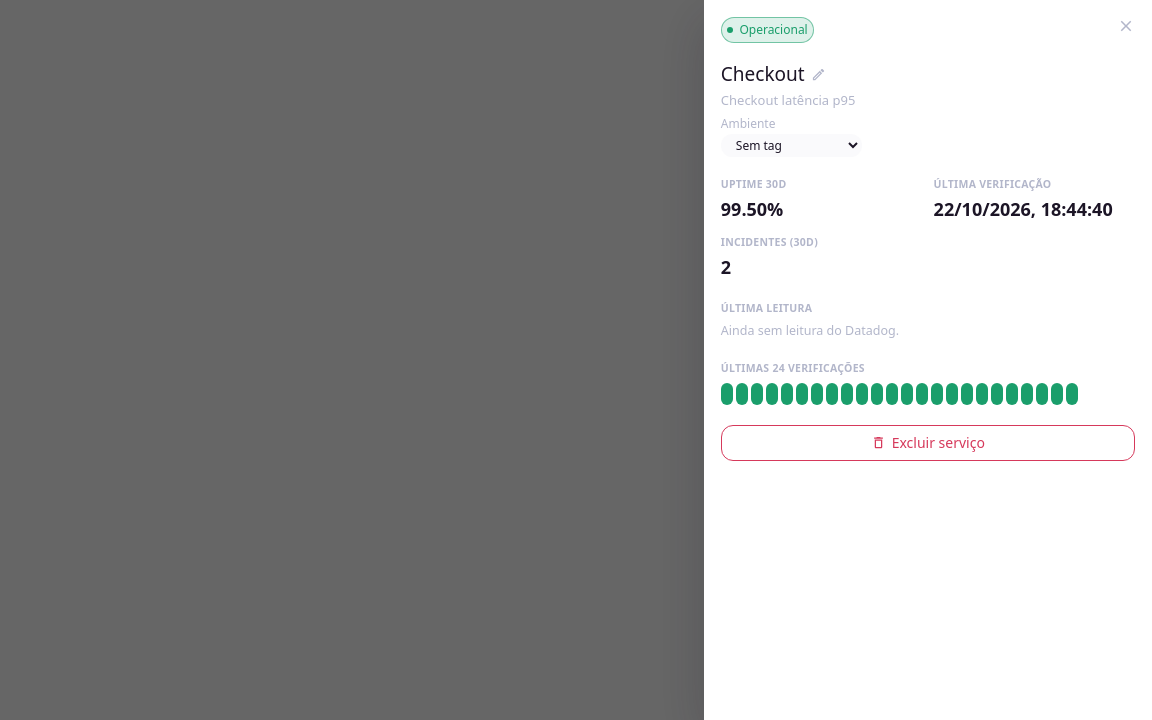
Test: ServiceDetailDrawer › owner can rename the service from the drawer (SVCEDIT-06)
The image size is (1152, 720).
Expected: the heading "Checkout" is shown, [721,60,805,88]
Click the button named "Renomear serviço" at (818, 74), box [811,67,826,82]
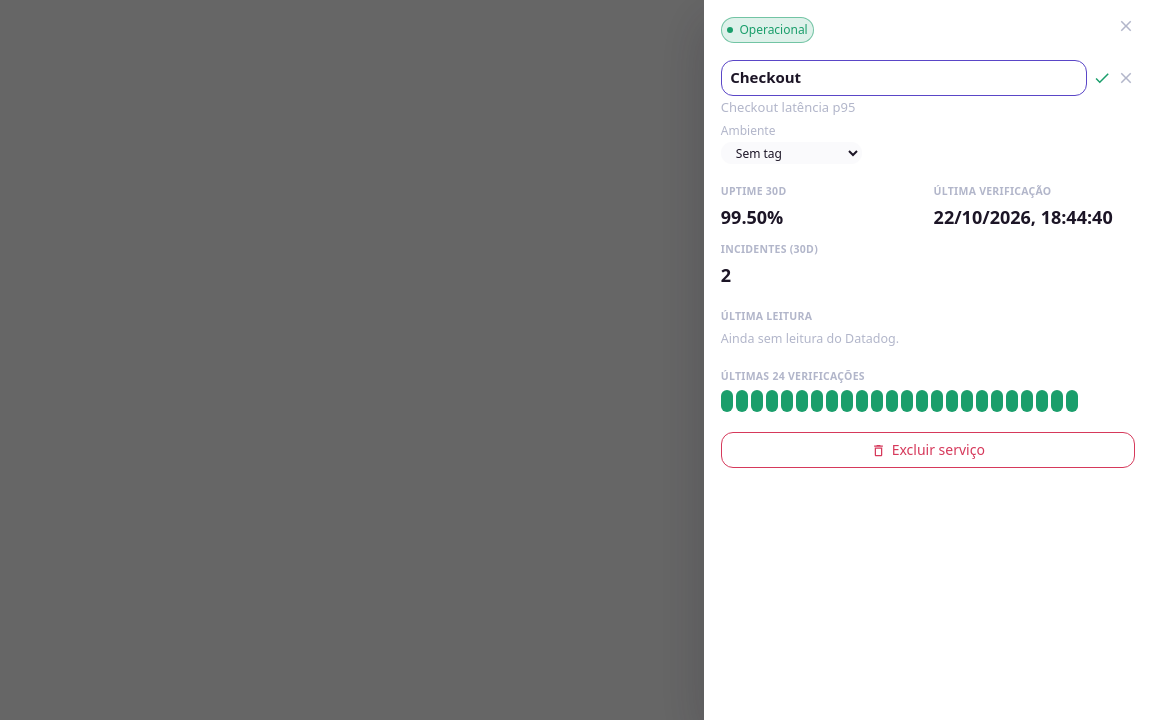
Replace the text in the field with placeholder "Nome do serviço" with "Checkout renomeado" at (904, 78), box [721,60,1087,96]
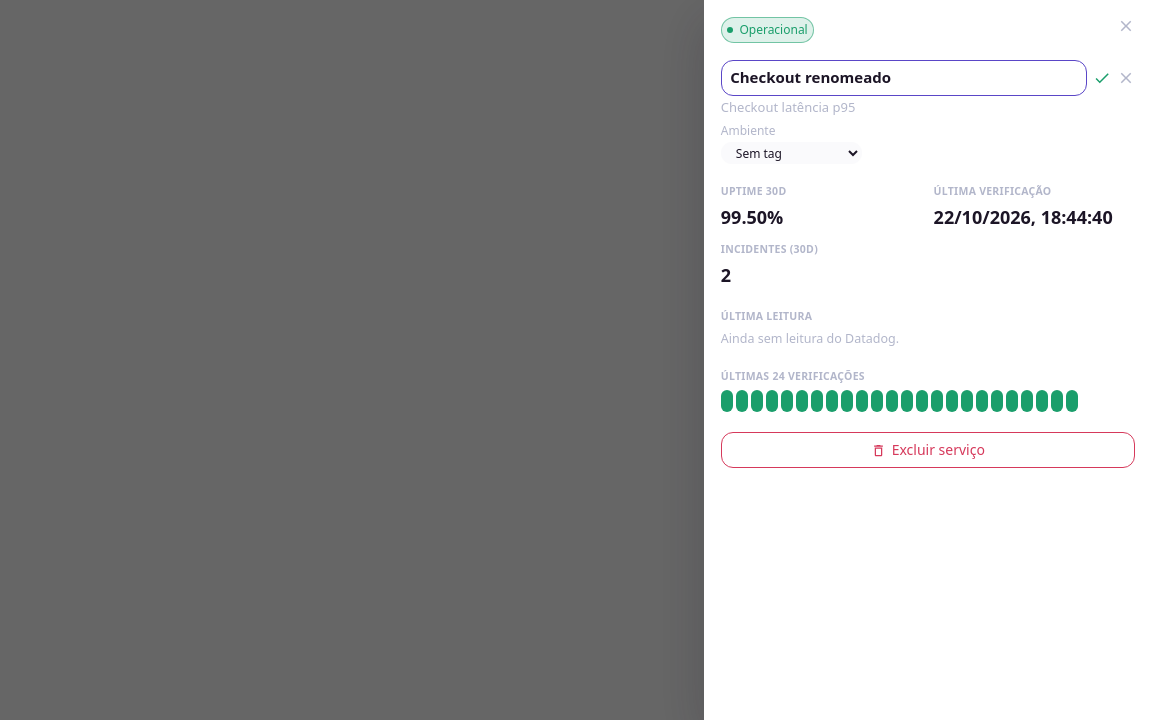
Click the button named "Salvar" at (1102, 78), box [1093,69,1111,87]
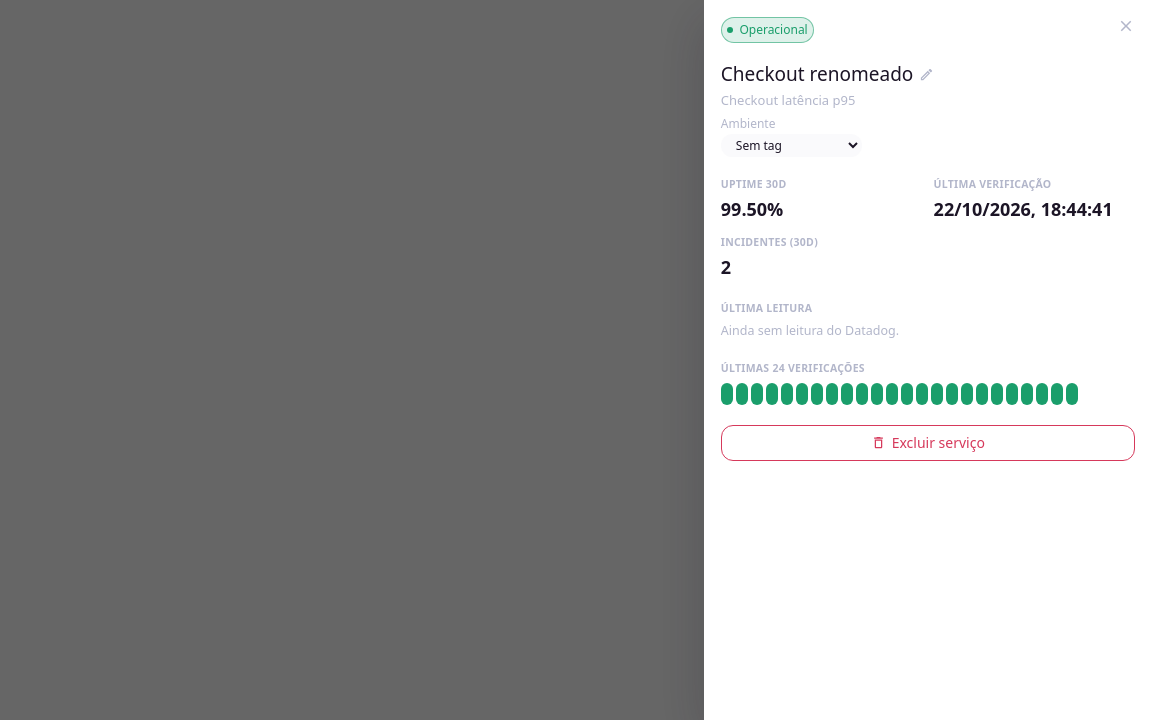
Expected: the heading "Checkout renomeado" is shown, [721,60,913,88]
